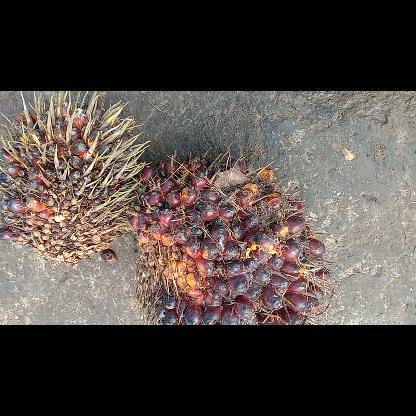Kurang masak: (131, 148, 334, 324)
TBS abnormal: (0, 91, 152, 267)
